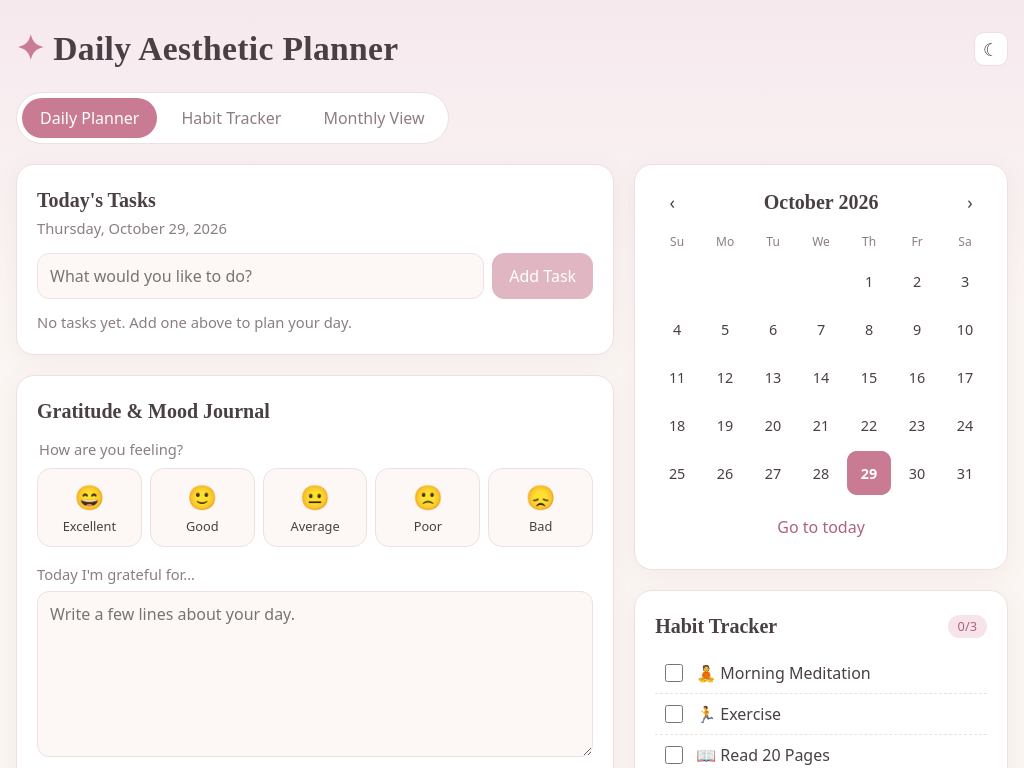
Test: Calendar navigation › switches tabs
This screenshot has width=1024, height=768.
Click the tab "Monthly View" at (374, 118), box [305, 98, 443, 138]
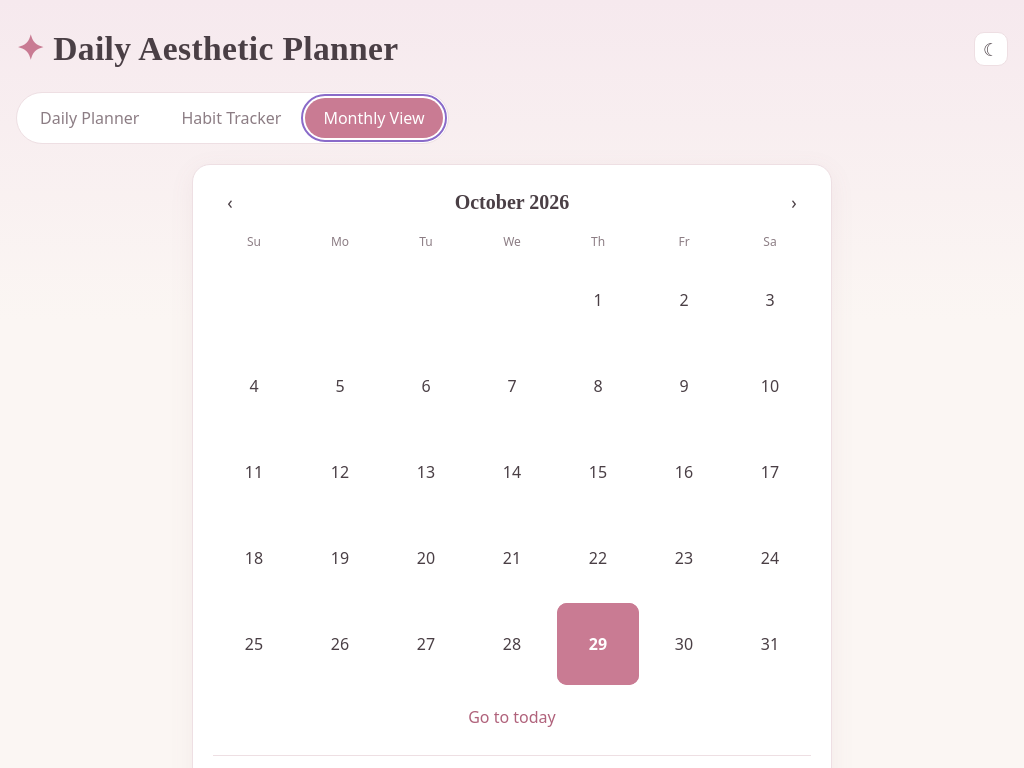
Expected: the tab "Monthly View" is selected, [305, 98, 443, 138]
Click the tab "Habit Tracker" at (231, 118), box [163, 98, 299, 138]
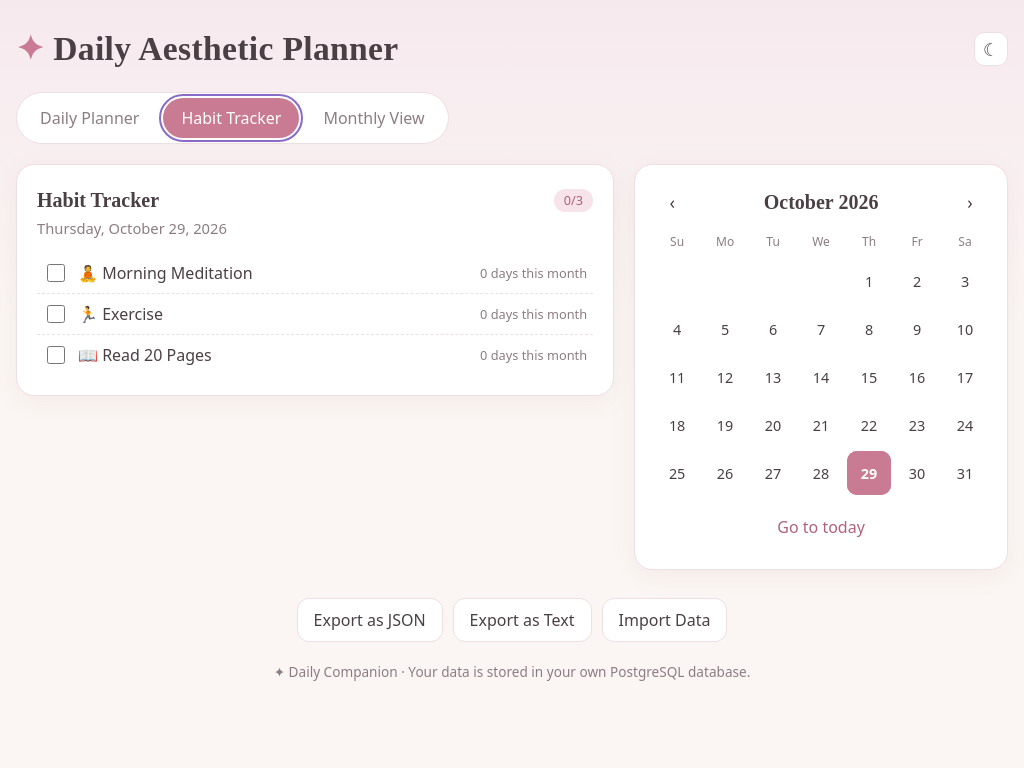
Expected: the text "0 days this month" is shown 3 times, [480, 264, 587, 283]; [480, 305, 587, 324]; [480, 346, 587, 365]
